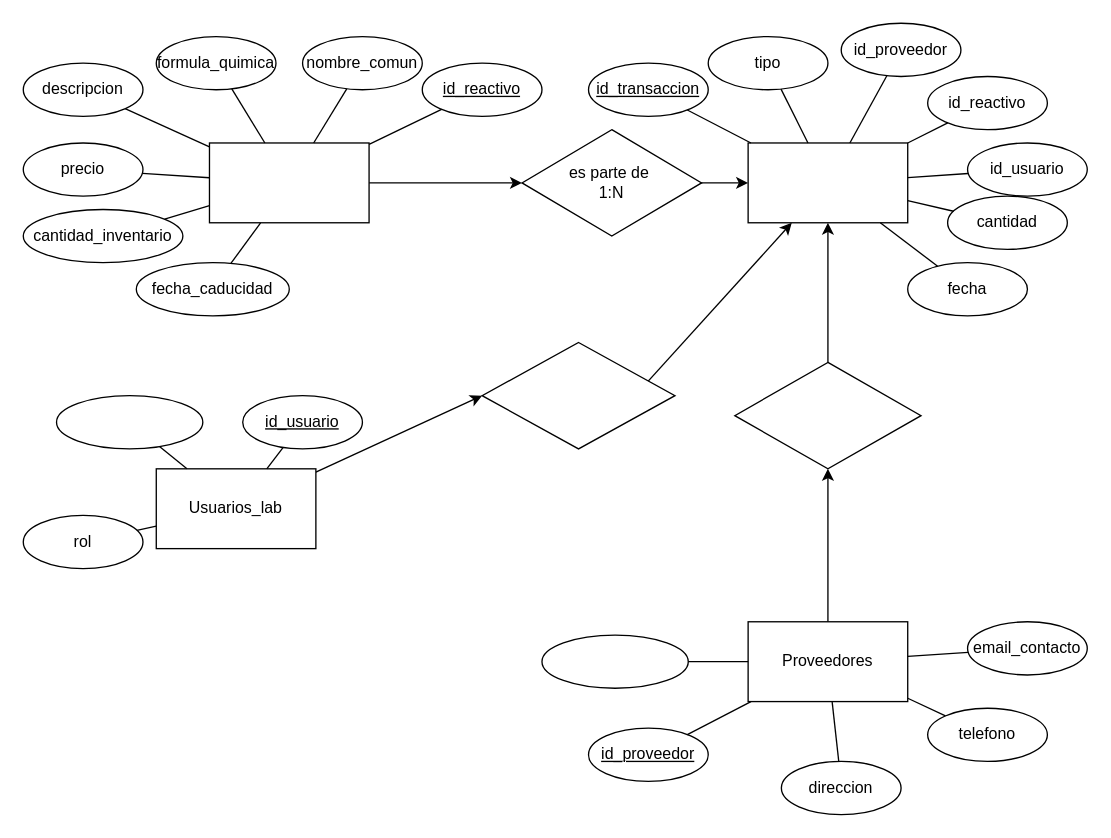
Some shapes in this 1111 by 838 pixel diagram are drawn without their labels. The shapes that lost their labels are listed below. From the top down, each one's centre as x and y in pixels, then its label:
At pixel 288 182: "Reactivos".
At pixel 827 182: "Transacciones".
At pixel 578 395: "realiza 1:N".
At pixel 827 415: "suministra 1:N".
At pixel 129 421: "nombre_completo".
At pixel 614 661: "nombre_empresa".
